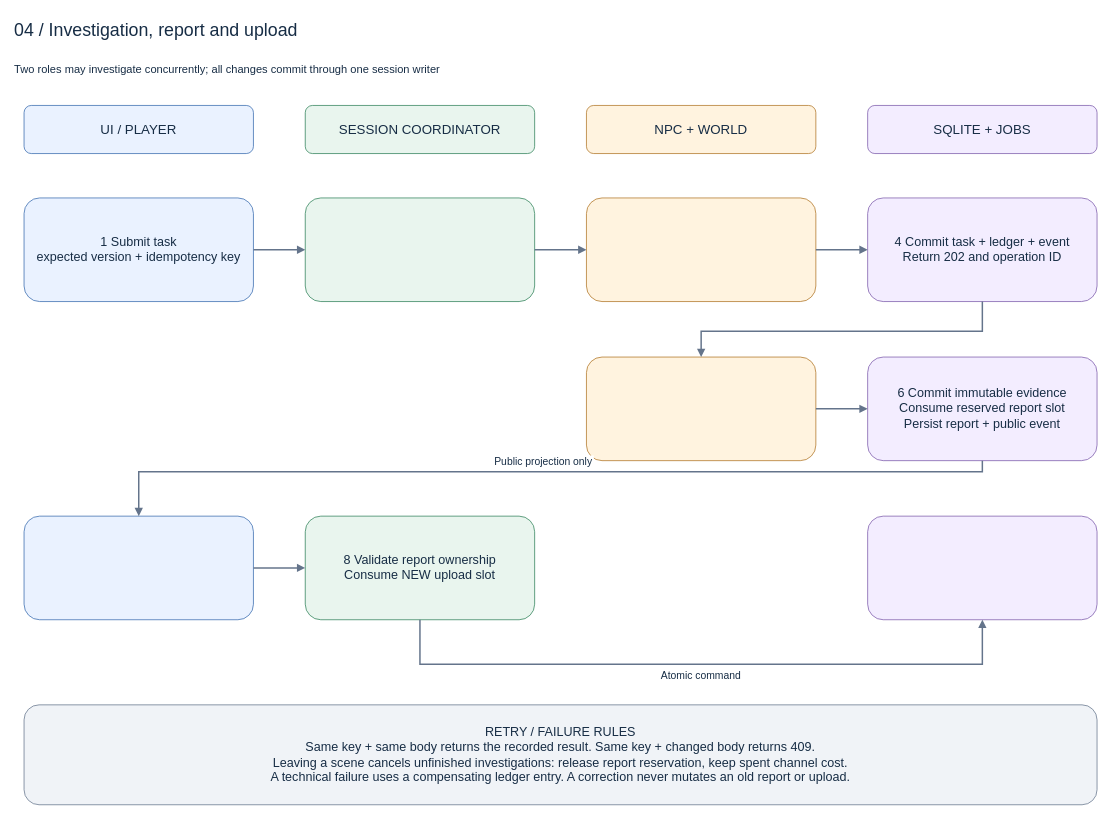
Some shapes in this 1120 by 818 pixel diagram are drawn without their labels. The shapes that lost their labels are listed below. From the top down, each one's box as (x1, y1, x2, y2) in pixels, then its label:
(305, 197, 535, 302): 2 Catch up due events Commit before command validation
(586, 197, 816, 302): 3 Validate role / target / quotas Reserve report; consume channel
(586, 356, 816, 461): 5 Scheduler reaches due time Resolve authored observation
(23, 515, 253, 620): 7 Read new report via SSE Choose whether to upload it
(867, 515, 1097, 620): 9 Commit input manifest + job Model call occurs after commit
